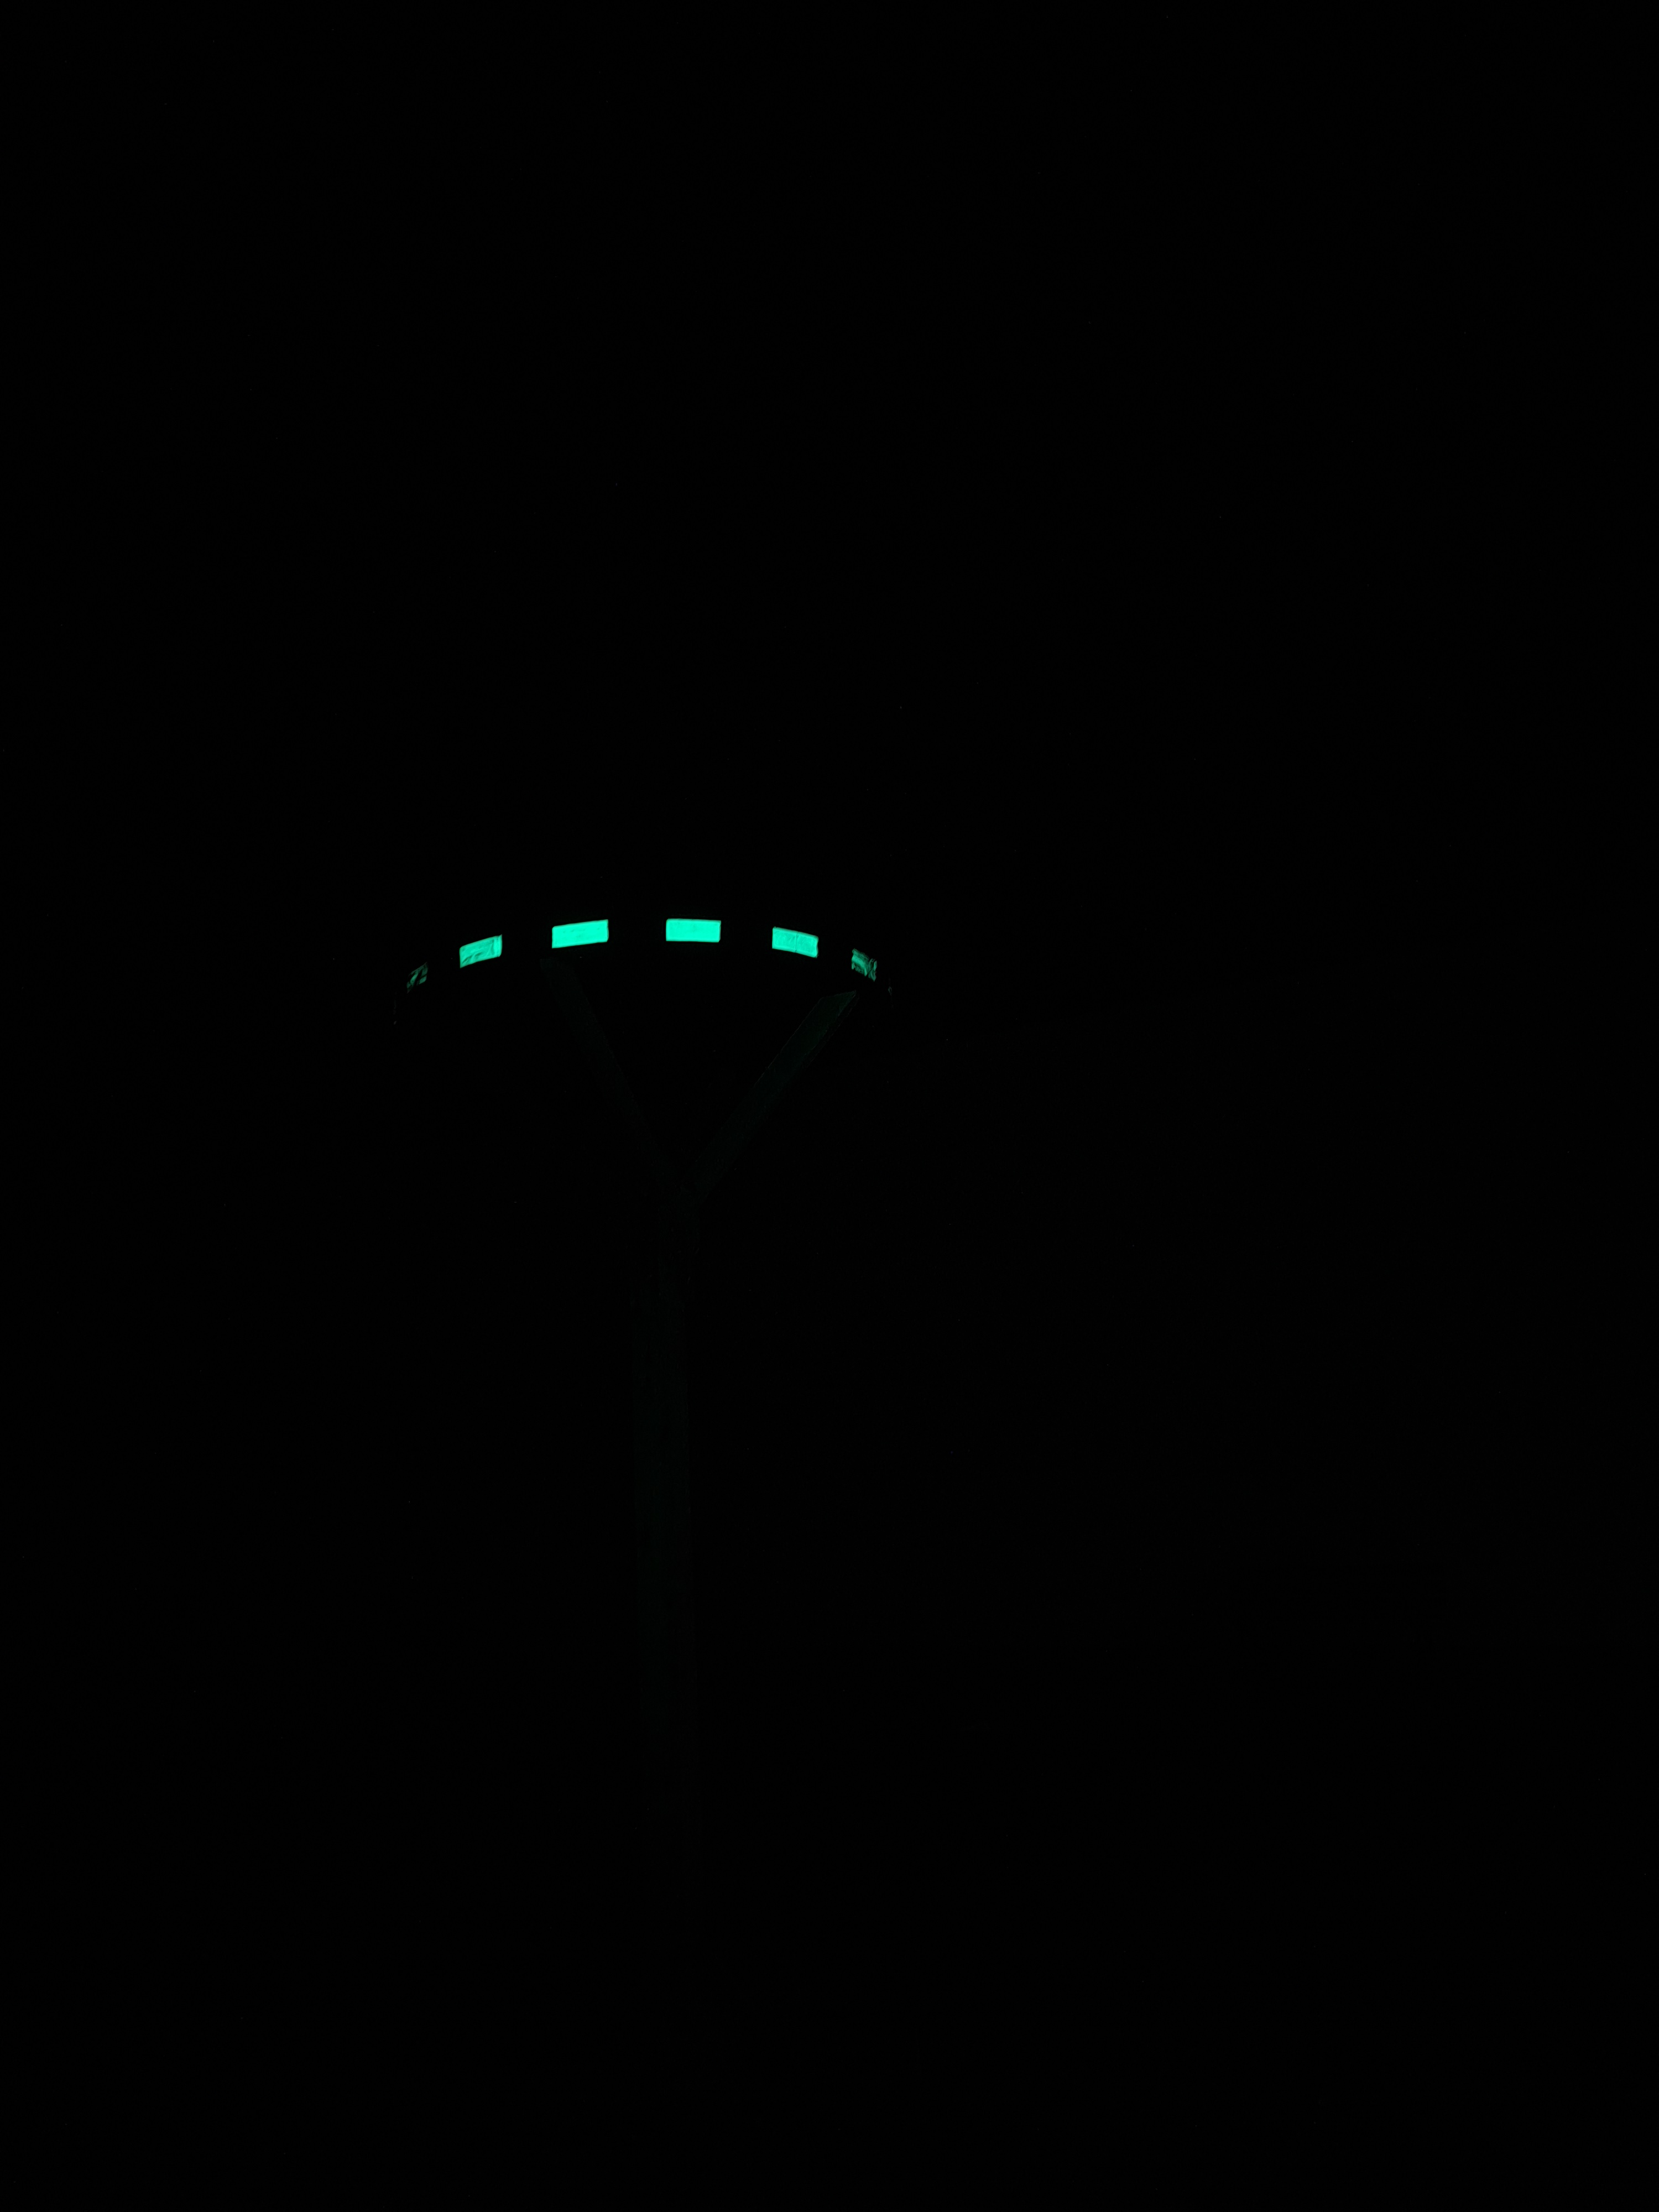hoop: (399, 918, 889, 996)
